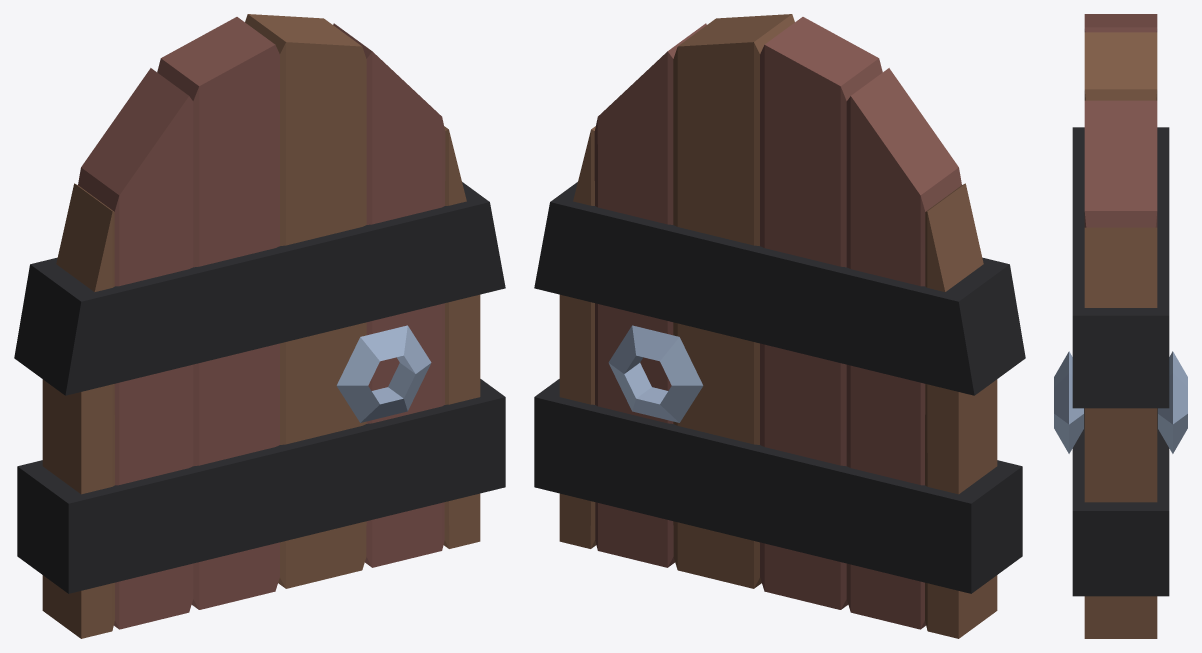
File: Wooden_Door.fbx
3 renders of one model, left to right at view 1: azimuth 30°, elevation 25°; view 2: azimuth 150°, elevation 25°; view 3: azimuth 270°, elevation 25°, orthographic. The views are drawn at different scales.
Visible parts, largest first — view 1: 3-Door; view 2: 3-Door; view 3: 3-Door.
Boxes of the visible parts, x1,y1,x2,y2 form: 3-Door: [14, 14, 505, 638]; 3-Door: [534, 14, 1025, 638]; 3-Door: [1054, 14, 1187, 638].
Size of the model in its own units: 1.39 by 0.3866 by 1.65.
